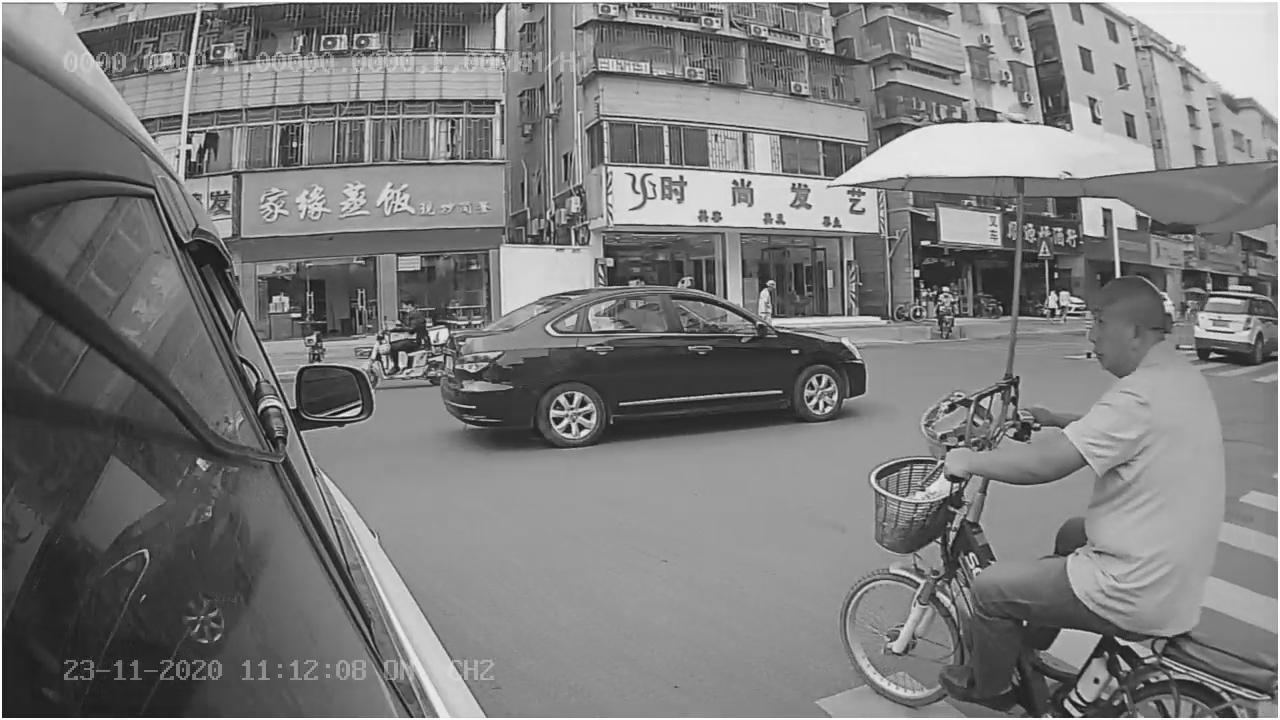person: (1034, 280, 1217, 635)
